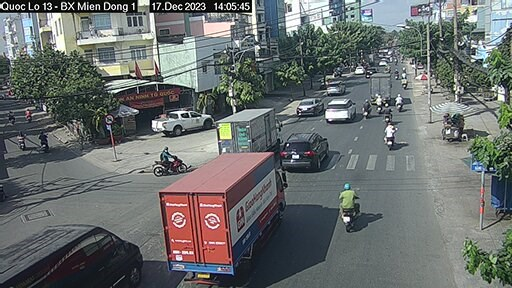car: (11, 221, 146, 287), (282, 131, 331, 170), (153, 110, 215, 137), (325, 97, 358, 122), (296, 97, 323, 117), (326, 79, 347, 101)
motorbike: (338, 180, 361, 235), (152, 146, 185, 176), (381, 124, 400, 154), (37, 131, 51, 153), (16, 128, 27, 153), (393, 93, 405, 114), (361, 97, 372, 119), (376, 93, 386, 117), (383, 103, 394, 124)
truck: (181, 150, 293, 283), (215, 106, 283, 155), (369, 72, 393, 101)
